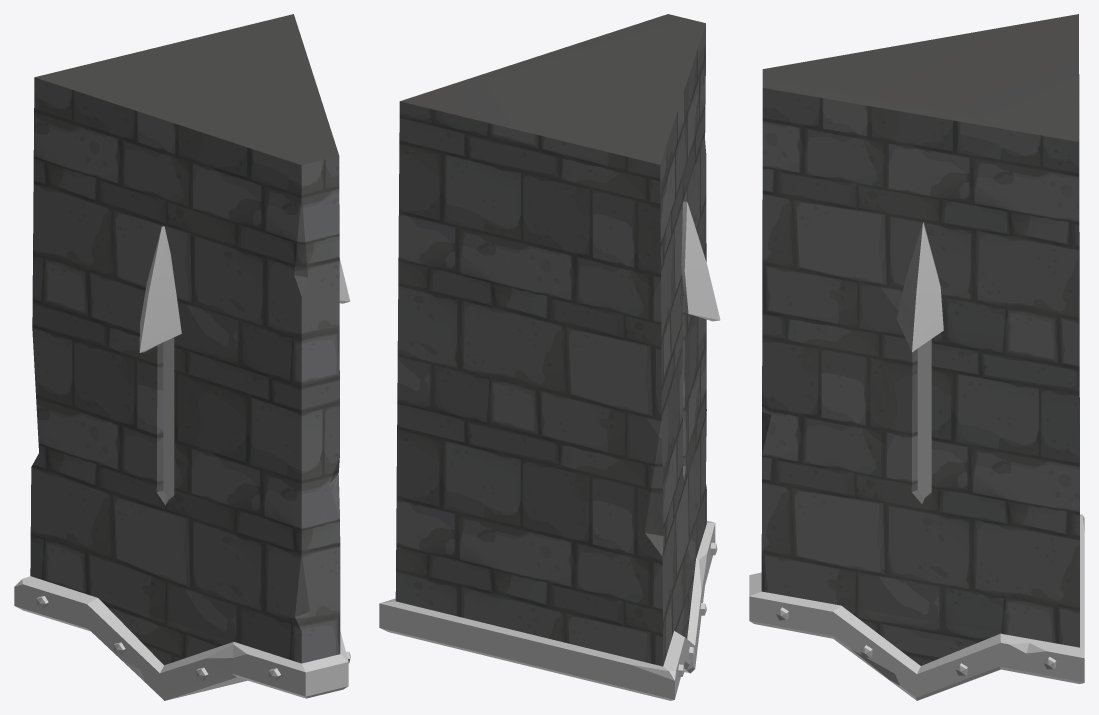
File: SM_Bld_Corner_Tower_02.fbx
The picture shows the model from 3 angles, left to right: view 1: azimuth 30°, elevation 25°; view 2: azimuth 150°, elevation 25°; view 3: azimuth 270°, elevation 25°; orthographic projection.
Parts seen in each view (by area): view 1: SM_Bld_Corner_Tower_02; view 2: SM_Bld_Corner_Tower_02; view 3: SM_Bld_Corner_Tower_02.
Boxes of the visible parts, bbox=[...] form: SM_Bld_Corner_Tower_02: bbox=[14, 14, 350, 700]; SM_Bld_Corner_Tower_02: bbox=[379, 14, 720, 700]; SM_Bld_Corner_Tower_02: bbox=[749, 14, 1084, 700].
Bounding box in the file's own units: 350 × 657 × 342.
